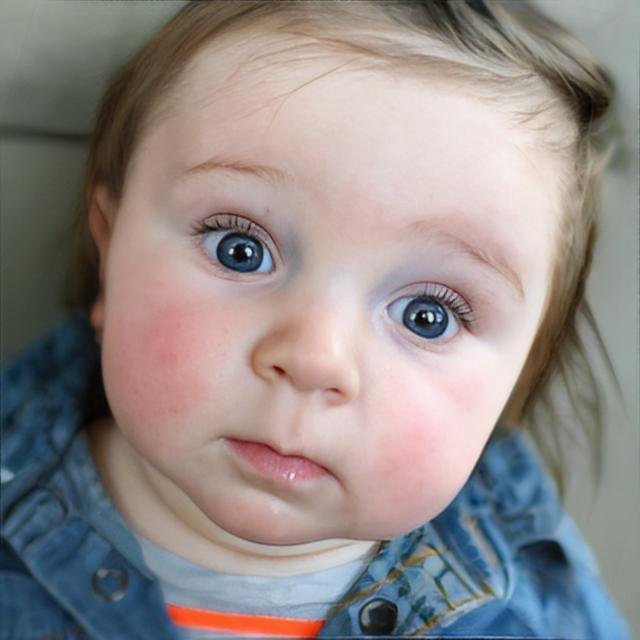surprise: (100, 1, 556, 550)
